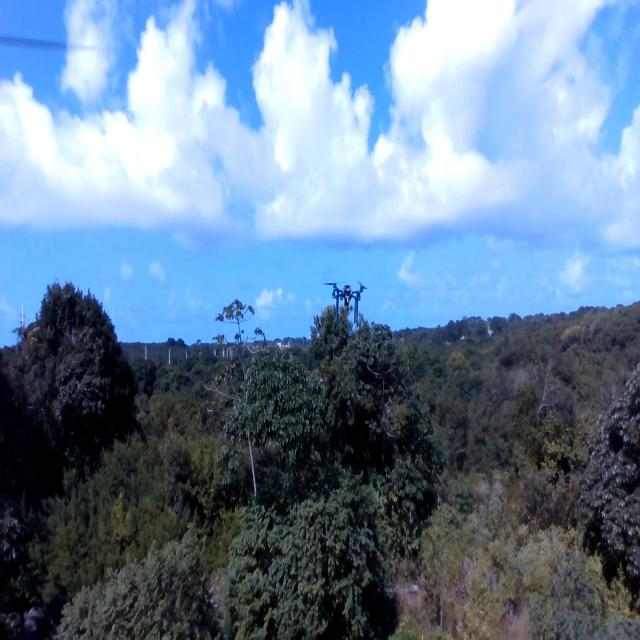-uav-: (319, 277, 379, 341)
